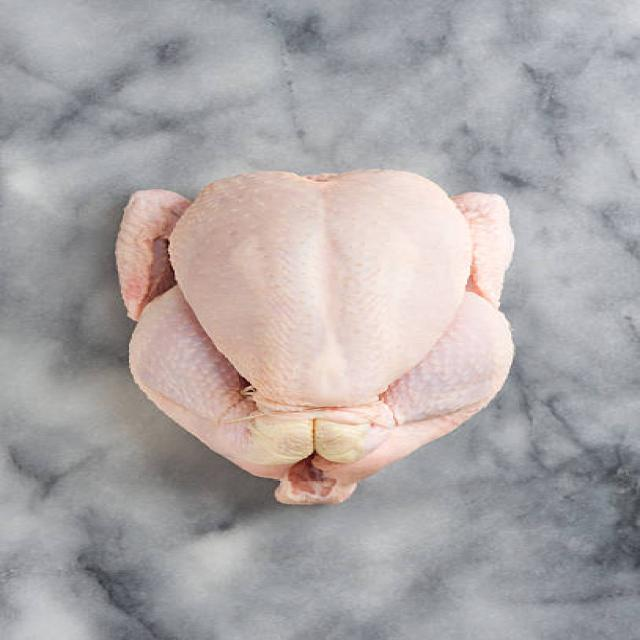Chicken: (101, 162, 538, 519)
